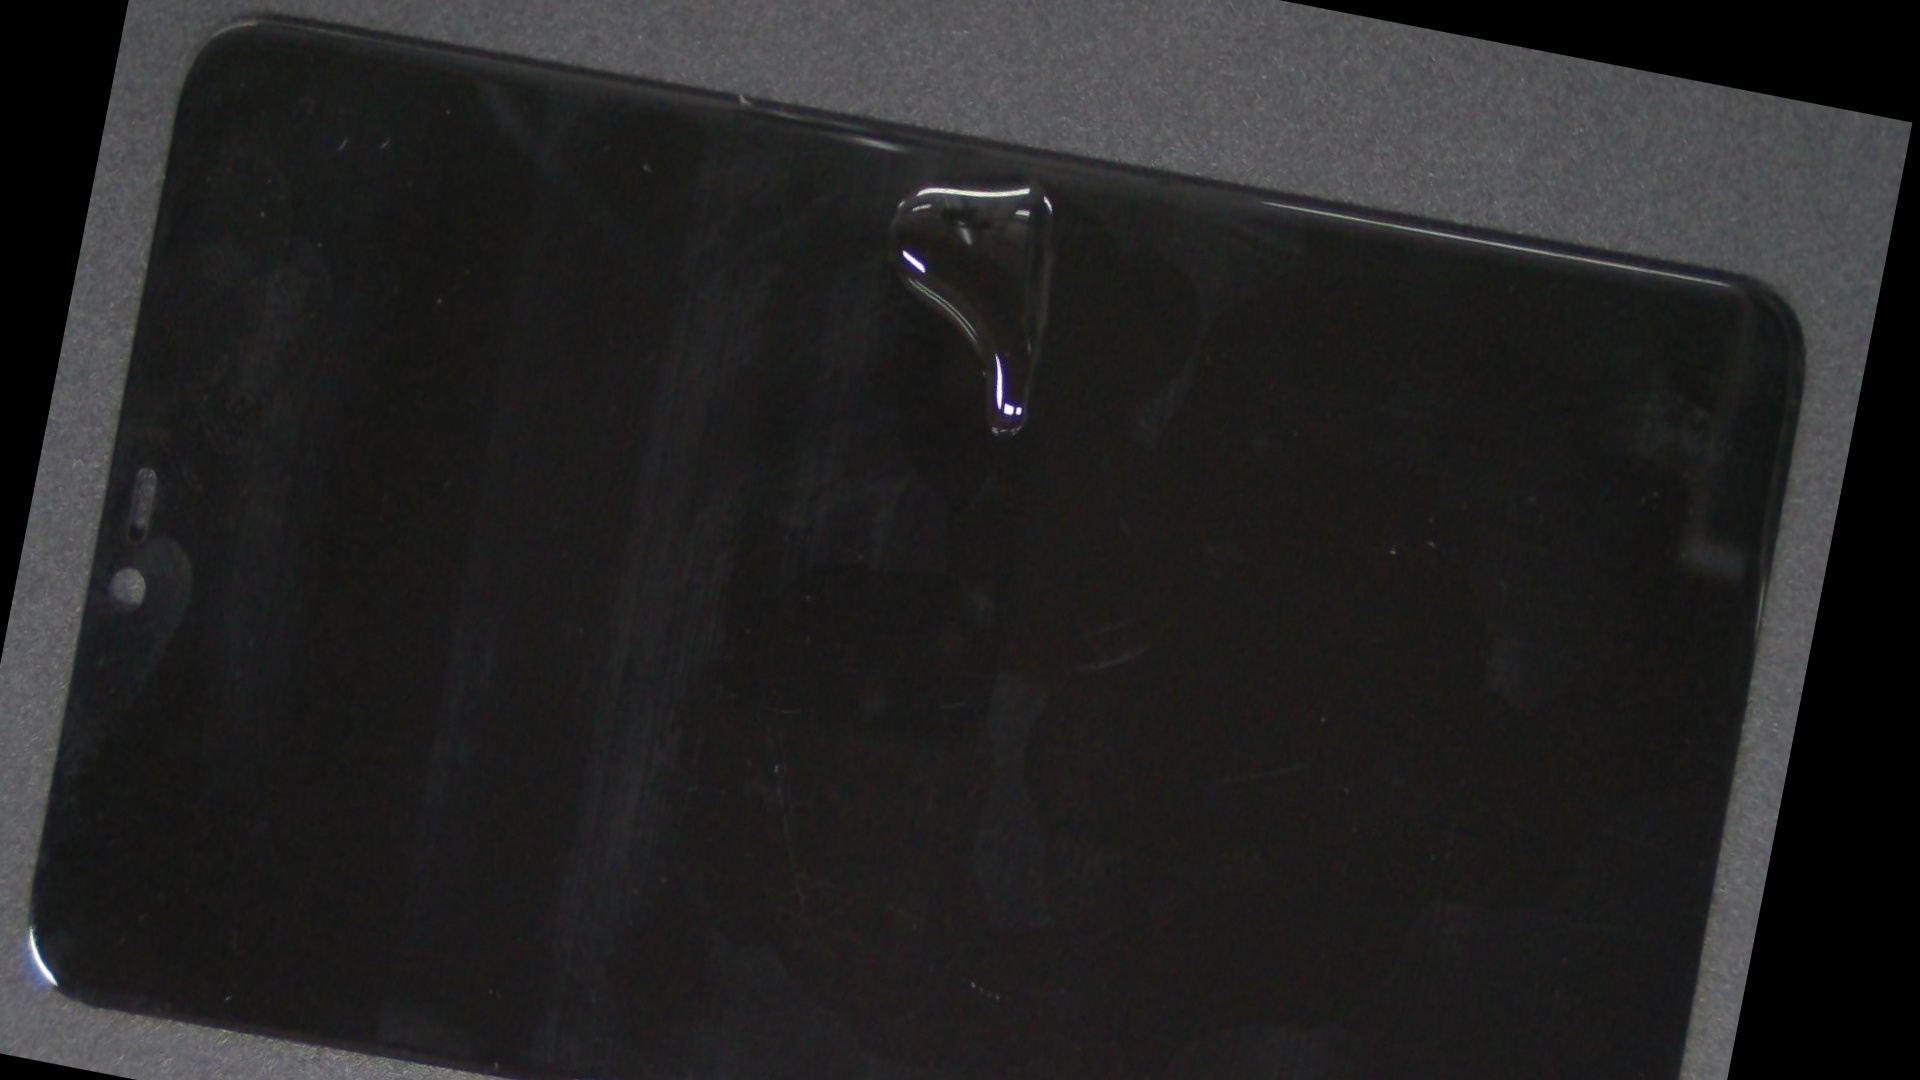oil: (562, 0, 1515, 382)
